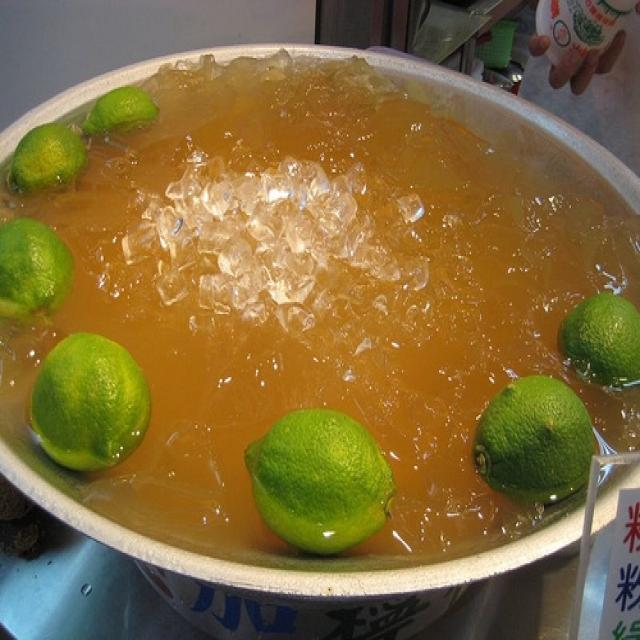蛋糕甜品: (19, 53, 616, 594)
